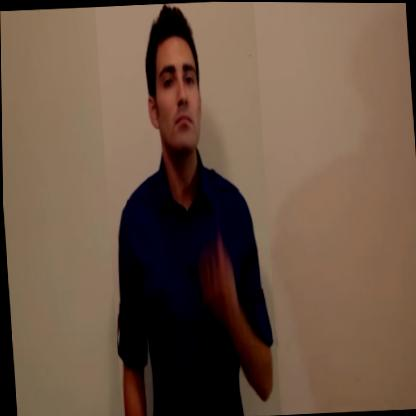ThankYou: (94, 1, 279, 416)
